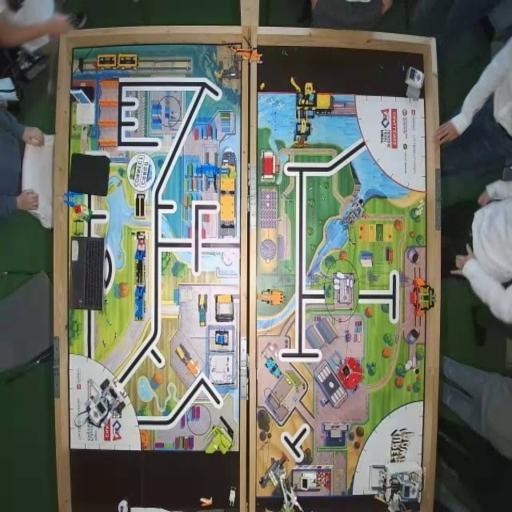lego_robot: (369, 463, 424, 512), (84, 377, 126, 429)
